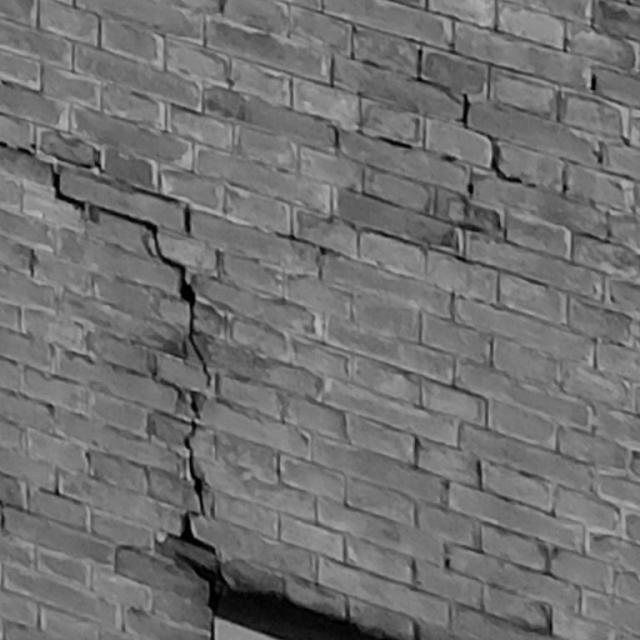crack: (1, 142, 230, 614)
